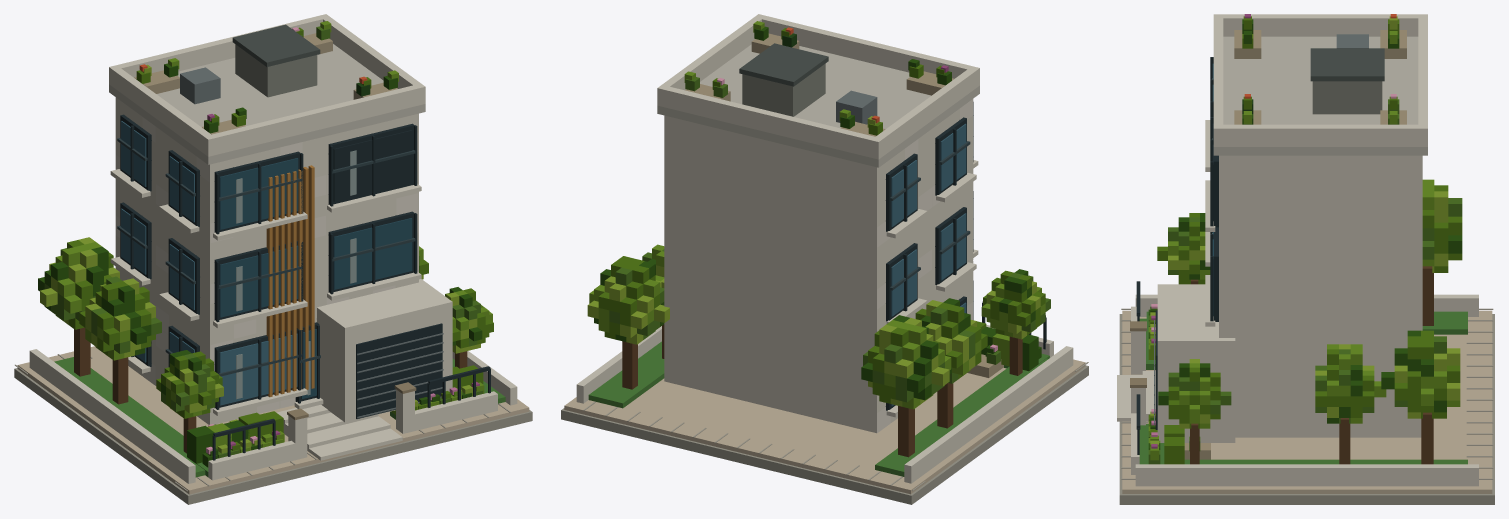
File: SM_Mapa_019.fbx
The picture shows the model from 3 angles, left to right: view 1: azimuth 30°, elevation 25°; view 2: azimuth 150°, elevation 25°; view 3: azimuth 270°, elevation 25°; orthographic projection. The views are drawn at different scales.
Visible parts, largest first — view 1: SM_Mapa_019; view 2: SM_Mapa_019; view 3: SM_Mapa_019.
Boxes of the visible parts, <box> form: SM_Mapa_019: <box>14,14,532,504</box>; SM_Mapa_019: <box>561,14,1088,504</box>; SM_Mapa_019: <box>1117,14,1494,504</box>.
Bounding box in the file's own units: 8 × 6.99 × 7.42.
